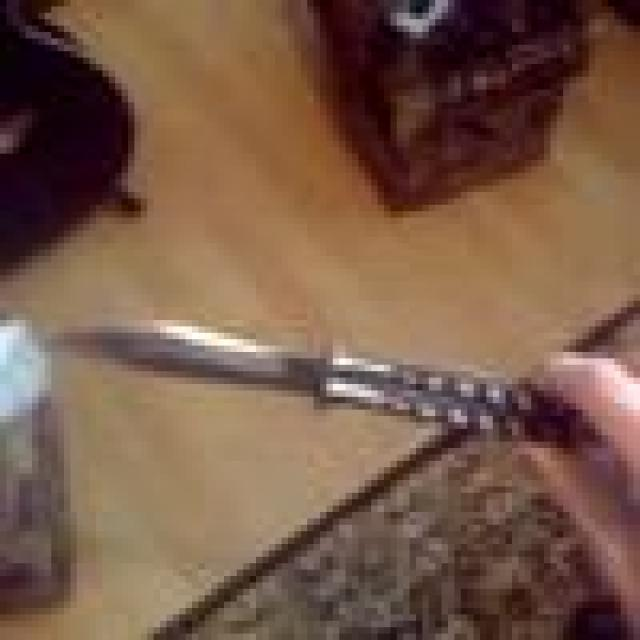knife: (63, 320, 567, 434)
